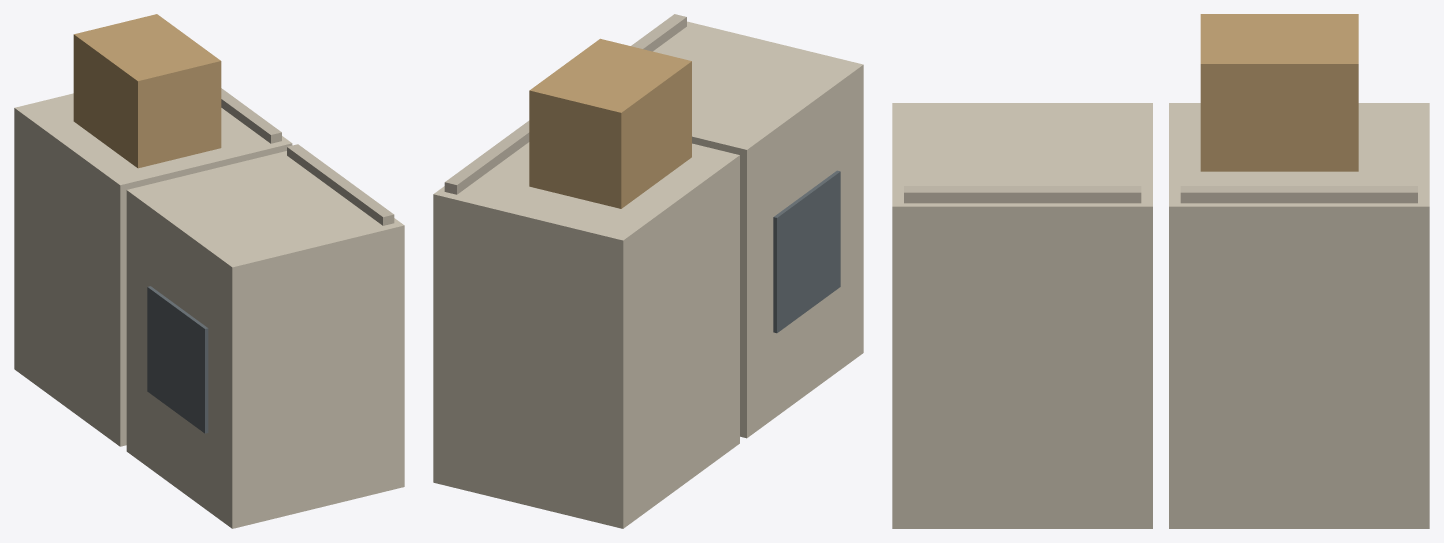
Rendered from washer.glb.
The picture shows the model from 3 angles, left to right: view 1: azimuth 30°, elevation 25°; view 2: azimuth 150°, elevation 25°; view 3: azimuth 270°, elevation 25°; orthographic projection. The views are drawn at different scales.
Parts seen in each view (by area): view 1: Box3, Box1, Box6, Box5, Box4, Box2; view 2: Box1, Box3, Box6, Box5, Box2, Box4; view 3: Box3, Box1, Box6, Box2, Box4.
Part boxes in pixels (x1=…): Box3: x1=126, y1=151, x2=404, y2=528; Box1: x1=14, y1=93, x2=292, y2=446; Box6: x1=73, y1=14, x2=221, y2=168; Box5: x1=147, y1=286, x2=208, y2=433; Box4: x1=287, y1=144, x2=394, y2=225; Box2: x1=221, y1=88, x2=281, y2=143; Box1: x1=433, y1=142, x2=739, y2=528; Box3: x1=653, y1=21, x2=863, y2=438; Box6: x1=529, y1=38, x2=691, y2=208; Box5: x1=773, y1=170, x2=840, y2=333; Box2: x1=444, y1=120, x2=529, y2=194; Box4: x1=631, y1=14, x2=686, y2=51; Box3: x1=892, y1=103, x2=1152, y2=528; Box1: x1=1169, y1=103, x2=1429, y2=528; Box6: x1=1200, y1=14, x2=1358, y2=171; Box2: x1=1180, y1=186, x2=1417, y2=203; Box4: x1=904, y1=186, x2=1141, y2=203.
Size of the model in its own units: 0.632 by 1.2 by 1.36.
